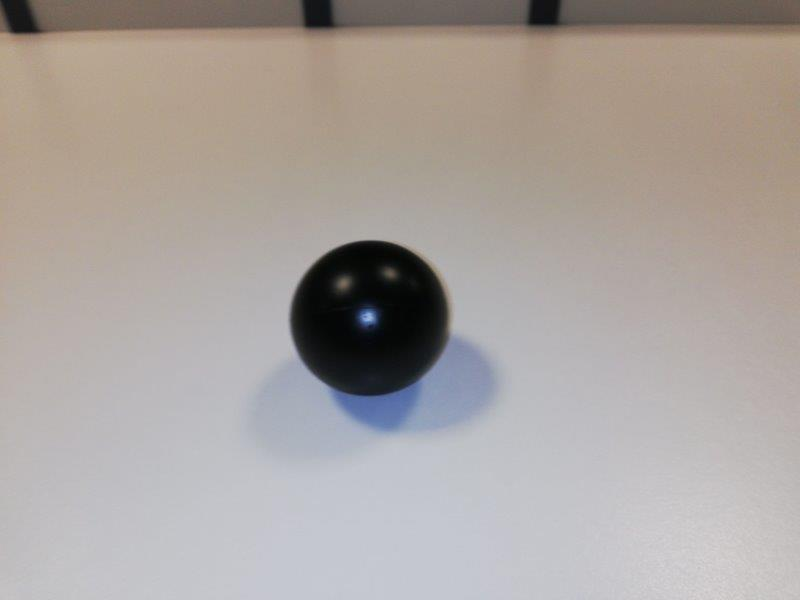nera: (289, 240, 450, 397)
